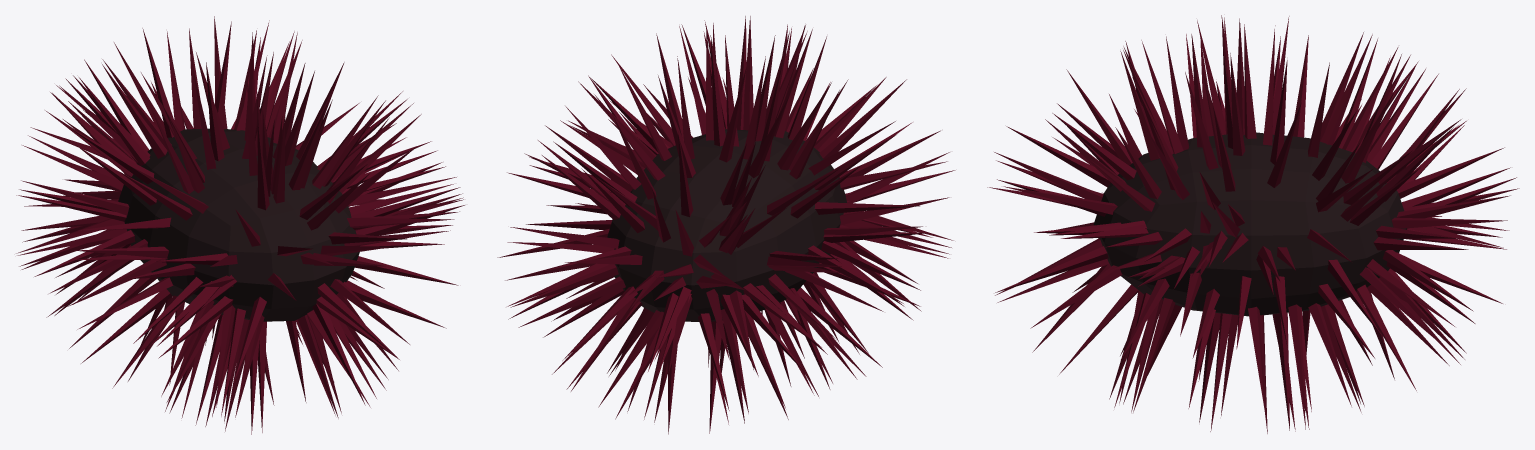
File: aac25f73-615e-4c08-bc5b-7d8fb291d359.glb
The picture shows the model from 3 angles, left to right: view 1: azimuth 30°, elevation 25°; view 2: azimuth 150°, elevation 25°; view 3: azimuth 270°, elevation 25°; orthographic projection. The views are drawn at different scales.
Parts seen in each view (by area): view 1: Geo_SeaUrchin; view 2: Geo_SeaUrchin; view 3: Geo_SeaUrchin.
Boxes of the visible parts, box(x1,y1,x2,y2) form: Geo_SeaUrchin: box(16, 16, 464, 434); Geo_SeaUrchin: box(497, 16, 955, 434); Geo_SeaUrchin: box(987, 15, 1519, 433).
Size of the model in its own units: 6.56 by 5.96 by 7.79.
1 material, 1 textured.
